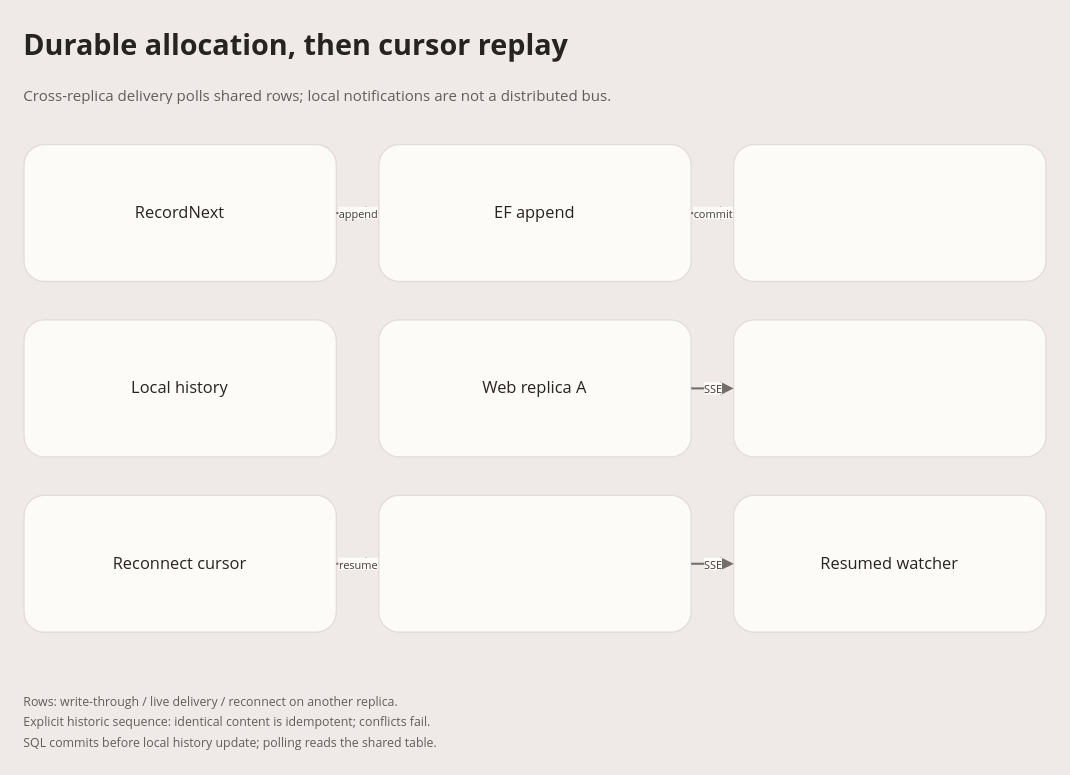
The diagram is 1070 pixels wide and 775 high, and some of its shapes have lost their labels. Each missing label, with the centre of its shape:
"Browser watcher" goes at (x=889, y=388).
"RunEvents" goes at (x=889, y=212).
"Web replica B" goes at (x=534, y=563).
